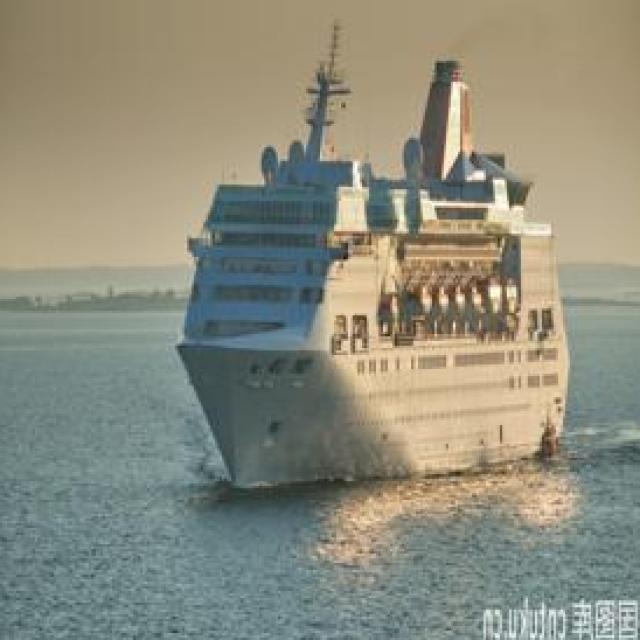navalvessels: (180, 25, 568, 498)
